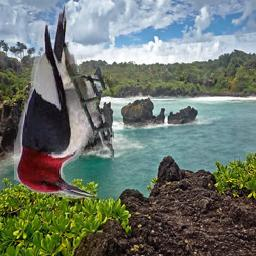Woodpecker: (14, 5, 114, 200)
